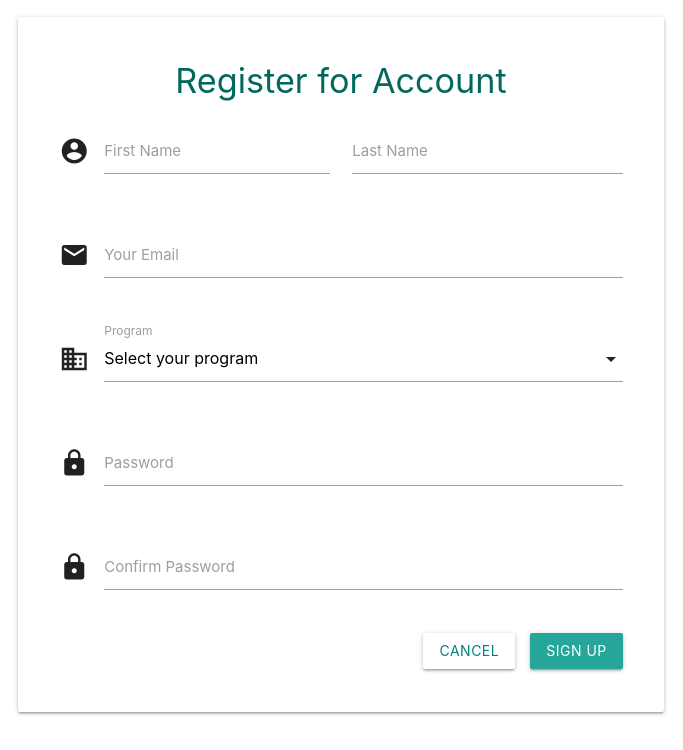
Scenario: SignupForm › displays a message when the password fields do not match
Type "correctpassword" into the password field labelled "Password" at (364, 463), box x1=104 y1=440 x2=623 y2=486
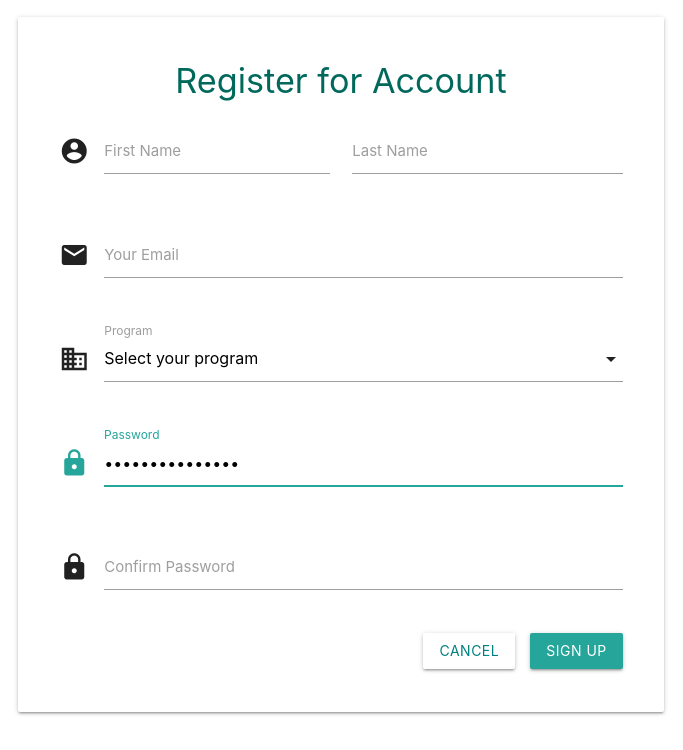
Type "incorrectpassword" into the password field labelled "Confirm Password" at (364, 567), box x1=104 y1=544 x2=623 y2=590
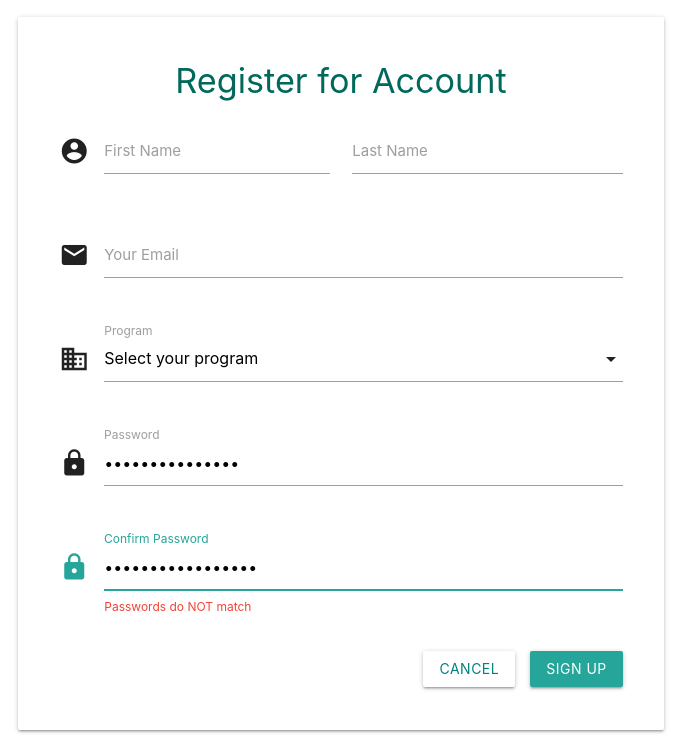
Check: the text "Passwords do NOT match" is shown, box x1=104 y1=599 x2=252 y2=614
